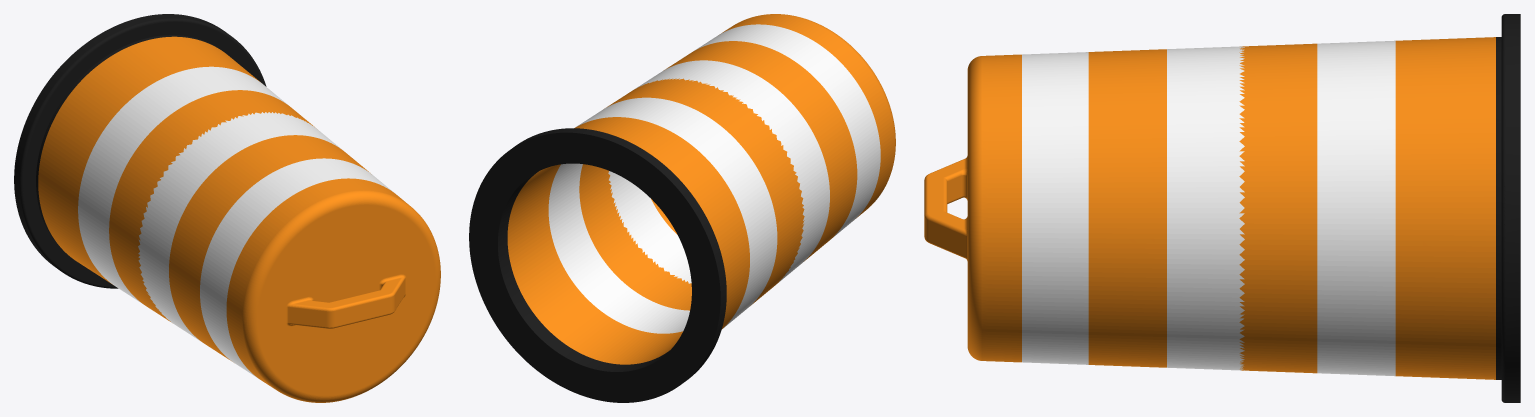
The model's file is barril.glb.
The picture shows the model from 3 angles, left to right: view 1: azimuth 30°, elevation 25°; view 2: azimuth 150°, elevation 25°; view 3: azimuth 270°, elevation 25°; orthographic projection. The views are drawn at different scales.
Parts seen in each view (by area): view 1: barril.glb; view 2: barril.glb; view 3: barril.glb.
Boxes of the visible parts, <box> form: barril.glb: <box>14,14,440,402</box>; barril.glb: <box>469,14,895,402</box>; barril.glb: <box>924,14,1520,402</box>.
Bounding box in the file's own units: 51 × 51 × 78.16.
